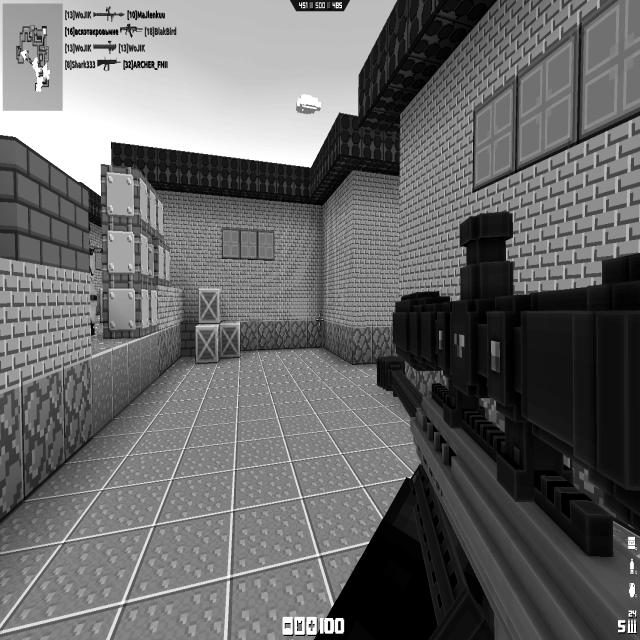Player: (86, 220, 99, 337)
